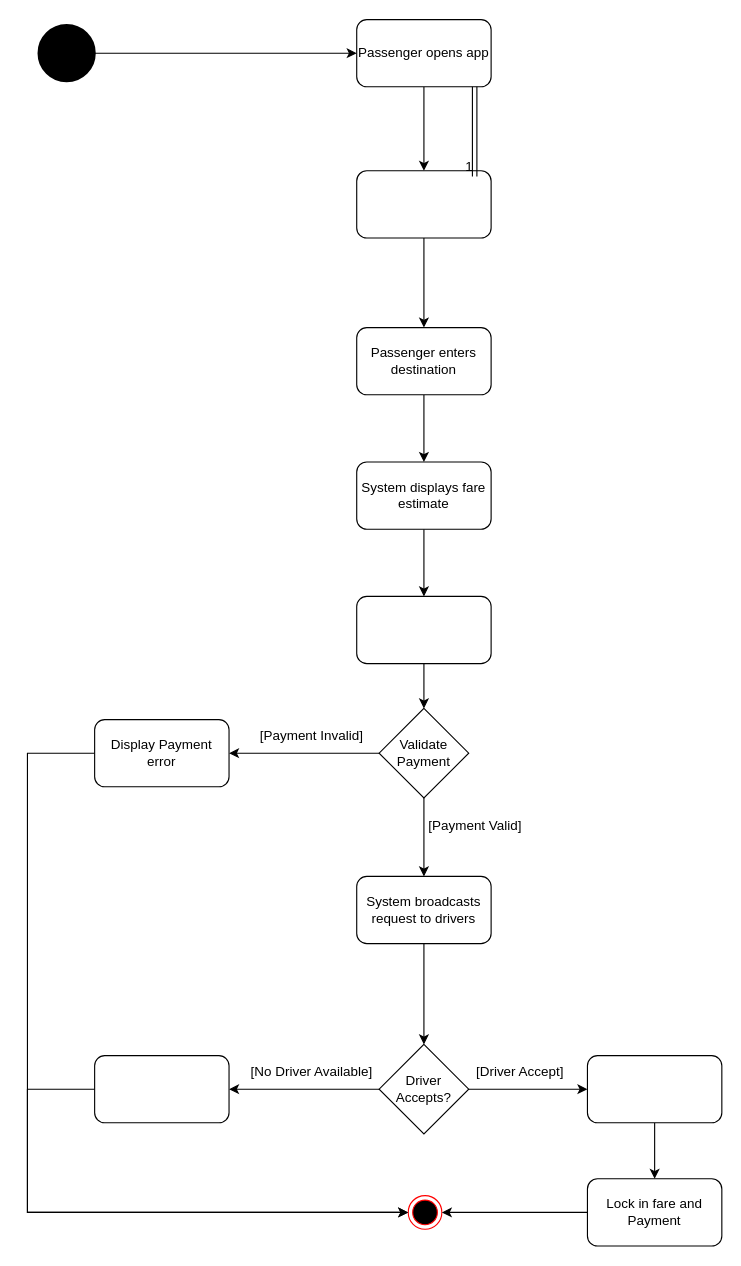
Some shapes in this 741 by 1266 pixel diagram are drawn without their labels. The shapes that lost their labels are listed below. From the top down, each one's box as (x1, y1, x2, y2) in pixels, then its label:
(356, 170, 491, 238): System gets current location
(356, 595, 491, 664): Passenger confirms request
(94, 1054, 229, 1123): Notify Passenger no Drivers
(586, 1054, 722, 1123): Notify Passenger Driver in route
